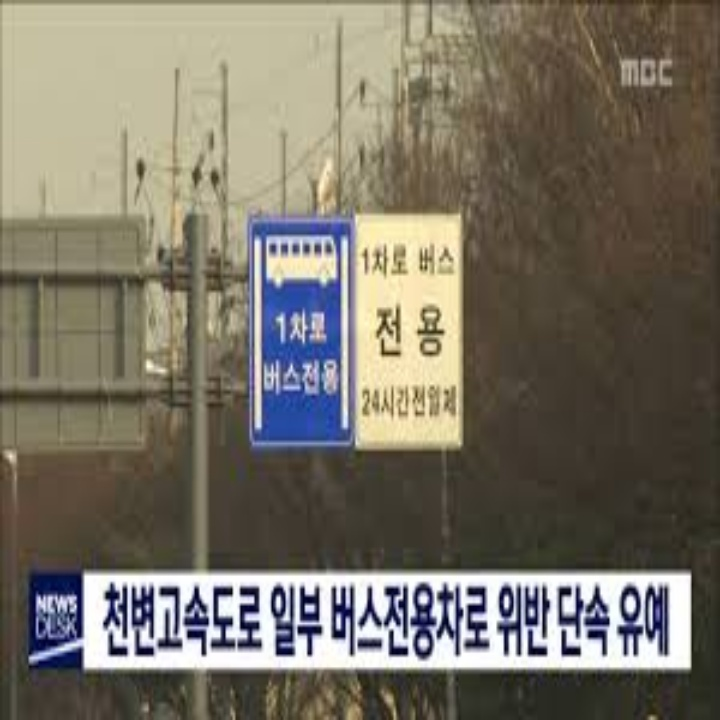bus: (262, 229, 340, 291)
